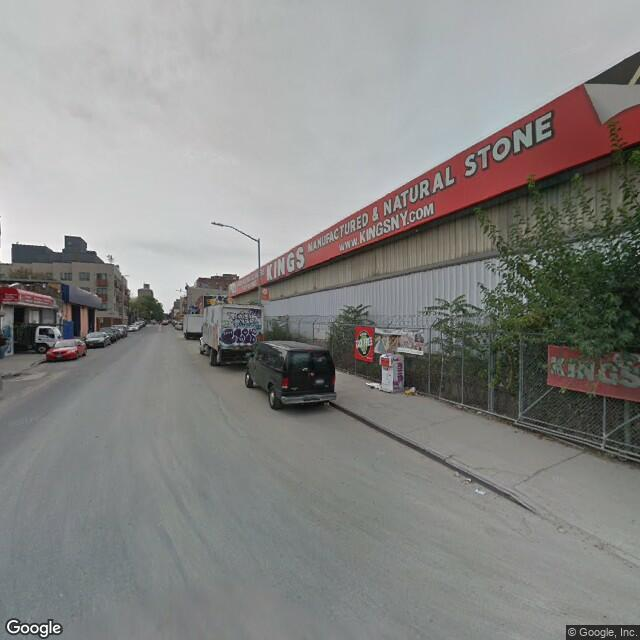litter: (406, 387, 417, 394), (366, 384, 381, 389), (463, 478, 476, 483), (454, 469, 462, 477), (474, 490, 488, 494), (473, 411, 483, 414)
